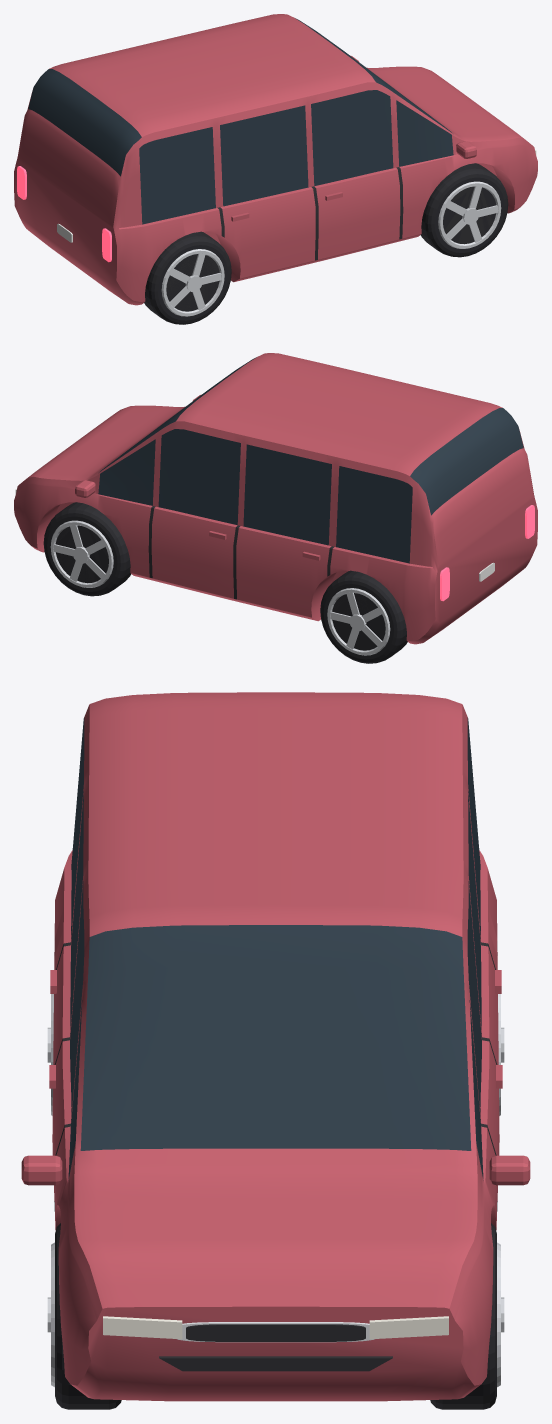
The model's file is dodje_caravon.fbx.
3 views of the same model, one above another, from view 1: azimuth 30°, elevation 25°; view 2: azimuth 150°, elevation 25°; view 3: azimuth 270°, elevation 25° (orthographic). The views are drawn at different scales.
Visible parts, largest first — view 1: Body.001, Glass.001, Tire.001, Rim.001, Trim.001, TailLight.001; view 2: Body.001, Glass.001, Tire.001, Rim.001, Trim.001, TailLight.001; view 3: Body.001, Glass.001, Trim.001, Tire.001, HeadLight.001, Rim.001, Chrome.001.
Boxes of the visible parts, <box> form: Body.001: <box>14,14,537,305</box>; Glass.001: <box>28,18,453,224</box>; Tire.001: <box>144,163,508,324</box>; Rim.001: <box>161,181,501,316</box>; Trim.001: <box>166,167,493,311</box>; TailLight.001: <box>17,166,111,262</box>; Body.001: <box>14,353,537,644</box>; Glass.001: <box>98,357,523,563</box>; Tire.001: <box>43,502,407,663</box>; Rim.001: <box>50,520,390,655</box>; Trim.001: <box>55,506,384,646</box>; TailLight.001: <box>440,505,534,601</box>; Body.001: <box>21,692,530,1401</box>; Glass.001: <box>68,717,483,1180</box>; Trim.001: <box>54,942,497,1371</box>; Tire.001: <box>55,1223,496,1409</box>; HeadLight.001: <box>103,1316,448,1339</box>; Rim.001: <box>47,994,504,1387</box>; Chrome.001: <box>177,1322,374,1342</box>.
Bounding box in the file's own units: 1464 × 653 × 750.
